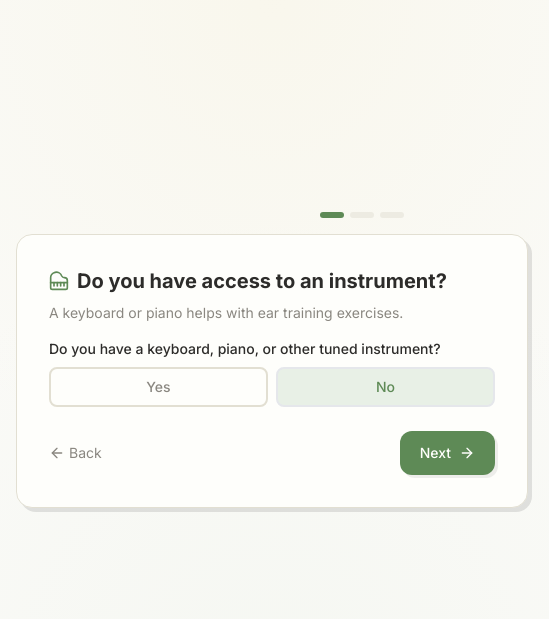
Test: EnhancedOnboarding skill assessment navigation › Start Assessment opens the pitch-matching assessment immediately
Earlier steps of the test are not shown.
Click the button "Next": (447, 453) [400,431,495,475]
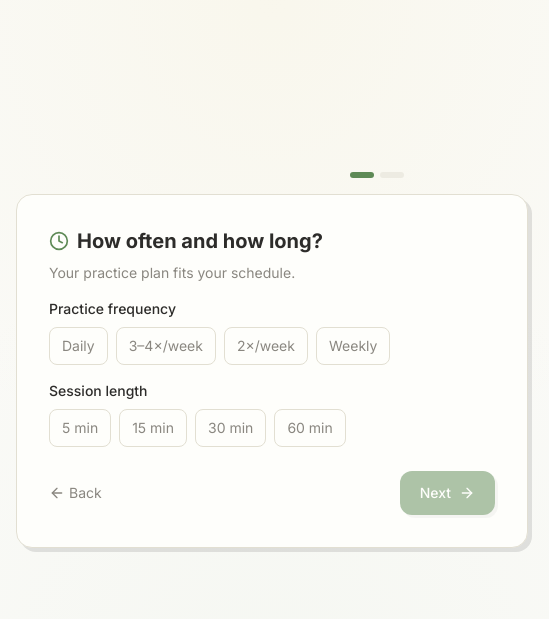
Click the button "Daily": (78, 346) [49,327,108,365]
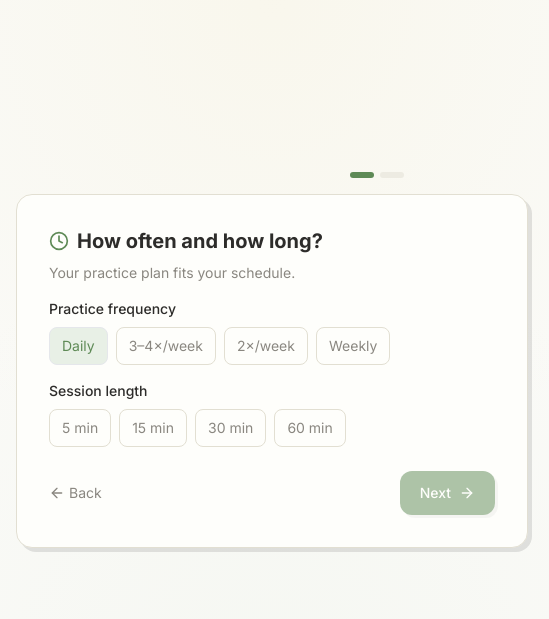
Click the button "15 min": (153, 428) [119,409,187,447]
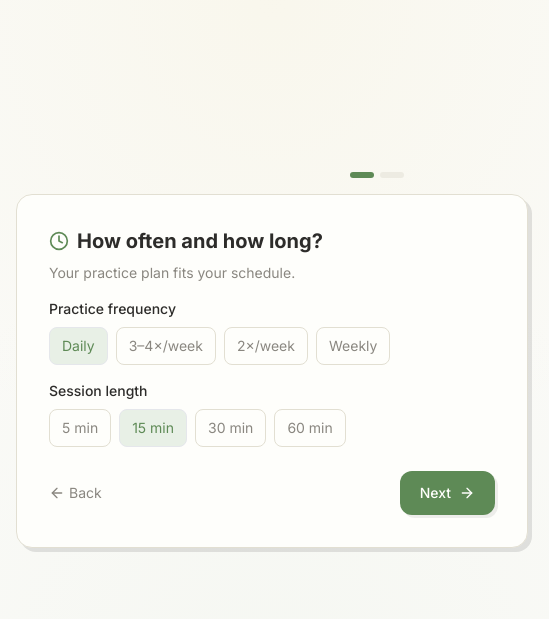
Click the button "Next": (447, 493) [400,471,495,515]
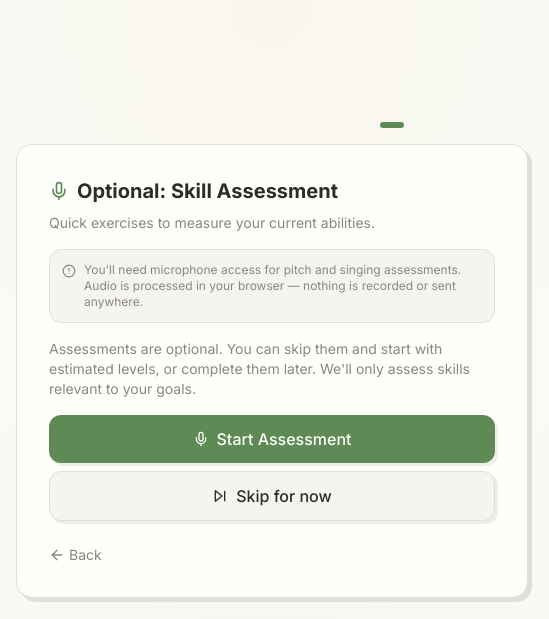
Expected: the heading "Optional: Skill Assessment" is shown, [77,177,338,205]
Click the button "Start Assessment": (272, 439) [49,415,495,463]
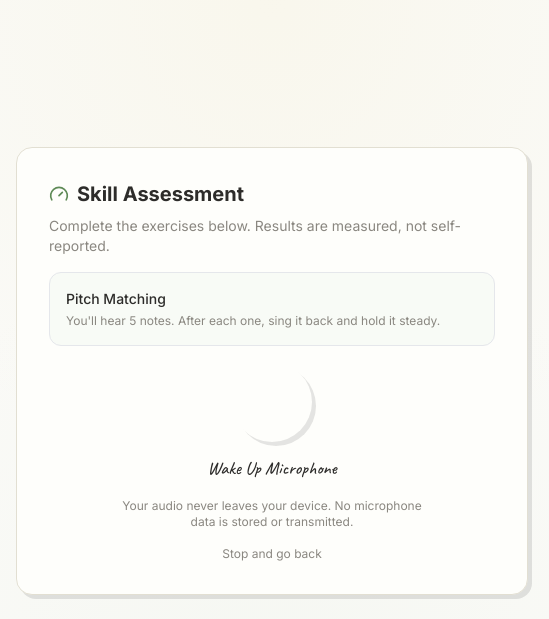
Expected: the heading "Optional: Skill Assessment" is gone
Expected: the text "Pitch Matching" is shown, [66,290,166,307]
Expected: the button "Stop and go back" is shown, [222,546,322,562]
